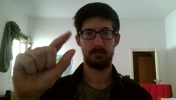Hand: (44, 23, 92, 90)
